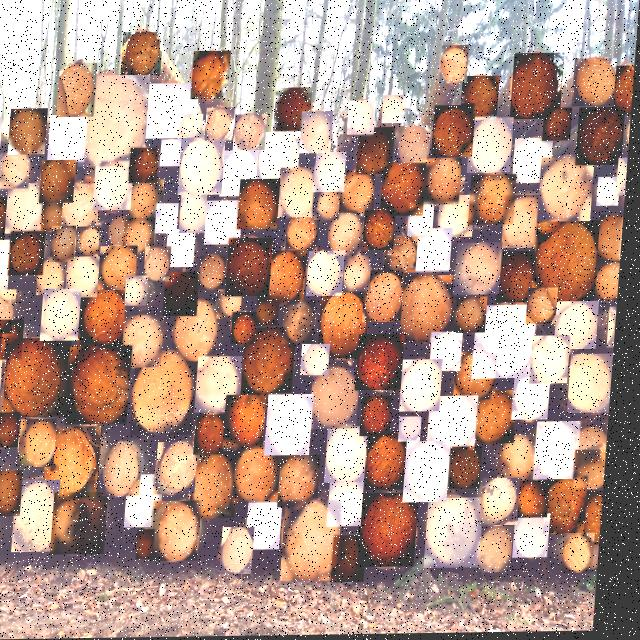wood-log: (80, 75, 152, 167), (536, 222, 607, 305), (137, 352, 204, 437), (9, 338, 77, 418), (71, 346, 138, 425), (289, 501, 351, 582), (478, 306, 542, 380), (365, 494, 427, 568), (50, 426, 111, 499), (433, 499, 491, 570), (405, 276, 465, 344), (247, 328, 302, 397), (59, 492, 117, 555), (541, 159, 597, 224), (512, 54, 565, 121), (323, 293, 375, 360), (20, 480, 68, 552), (197, 452, 247, 519), (159, 501, 210, 562), (316, 369, 366, 430), (271, 395, 320, 457), (177, 298, 224, 362), (410, 442, 458, 504), (148, 84, 201, 139), (578, 109, 627, 168), (240, 446, 289, 504), (83, 289, 131, 348), (573, 356, 619, 417), (433, 397, 484, 452), (361, 335, 410, 392), (180, 138, 228, 196), (541, 423, 588, 482), (230, 239, 277, 297), (505, 196, 554, 250), (201, 357, 248, 413), (551, 478, 596, 536), (458, 244, 506, 297), (470, 119, 516, 174), (331, 427, 375, 484), (372, 433, 415, 491), (122, 316, 169, 369), (383, 163, 429, 217), (267, 251, 311, 306), (479, 392, 524, 445), (259, 132, 303, 186), (230, 396, 273, 451), (472, 176, 519, 226), (433, 106, 477, 159), (162, 442, 205, 495), (285, 456, 328, 508), (406, 361, 449, 413), (110, 441, 150, 496), (367, 271, 409, 323), (573, 60, 618, 108), (559, 303, 604, 351), (58, 63, 98, 117), (240, 180, 283, 230), (500, 253, 542, 304), (281, 168, 323, 219), (45, 289, 86, 341), (459, 353, 503, 401), (8, 184, 50, 234), (133, 475, 172, 528), (96, 161, 137, 211), (535, 338, 576, 386), (192, 51, 232, 100), (61, 184, 103, 230), (488, 480, 529, 527), (504, 436, 544, 484), (122, 32, 164, 77), (515, 139, 556, 185), (10, 108, 50, 155), (359, 128, 398, 176), (25, 419, 64, 467), (254, 501, 291, 551), (50, 115, 89, 162), (102, 246, 142, 291), (222, 151, 261, 197), (310, 252, 349, 297), (484, 528, 522, 574), (462, 78, 501, 122), (518, 379, 557, 423), (275, 88, 314, 132), (12, 231, 50, 276), (427, 160, 464, 206), (340, 536, 375, 584), (208, 201, 246, 245), (521, 516, 559, 560), (331, 212, 368, 257), (167, 272, 204, 317), (335, 483, 372, 528), (228, 528, 263, 575), (441, 196, 478, 239), (342, 171, 379, 214), (42, 160, 79, 203), (420, 230, 456, 274), (287, 301, 322, 344), (454, 448, 489, 490), (0, 471, 31, 517), (70, 257, 104, 298), (302, 112, 335, 154), (132, 180, 167, 219), (366, 397, 399, 438), (366, 211, 399, 252), (397, 127, 433, 164), (435, 333, 468, 373), (200, 415, 233, 455), (570, 535, 603, 575), (316, 153, 349, 193), (289, 214, 323, 252), (387, 238, 422, 274), (581, 451, 613, 490), (0, 320, 31, 360), (236, 115, 270, 151), (126, 218, 159, 255), (1, 153, 33, 191), (526, 482, 558, 519), (169, 229, 199, 268), (602, 217, 626, 265), (531, 290, 563, 326), (460, 298, 492, 334), (590, 493, 611, 547), (182, 195, 211, 234), (441, 47, 470, 85), (41, 258, 70, 295), (132, 148, 162, 183), (348, 256, 376, 293), (615, 68, 636, 117), (544, 109, 574, 143), (207, 108, 237, 142), (147, 247, 176, 282), (202, 256, 231, 290), (349, 102, 378, 136), (599, 264, 624, 303), (0, 412, 27, 448), (411, 205, 438, 240), (54, 226, 80, 262), (306, 345, 336, 376), (0, 290, 21, 334), (236, 313, 262, 345), (221, 290, 247, 319), (0, 240, 15, 290), (79, 227, 104, 257), (317, 193, 343, 221), (158, 204, 182, 234), (261, 296, 284, 327), (599, 179, 623, 208), (130, 276, 153, 306), (0, 332, 10, 400), (384, 96, 408, 124), (180, 115, 205, 141), (405, 418, 428, 444), (162, 140, 184, 167), (45, 203, 66, 231), (144, 530, 163, 560), (0, 197, 11, 240), (619, 160, 630, 198), (612, 309, 622, 350), (0, 155, 5, 192), (0, 460, 3, 507), (0, 117, 4, 150)
